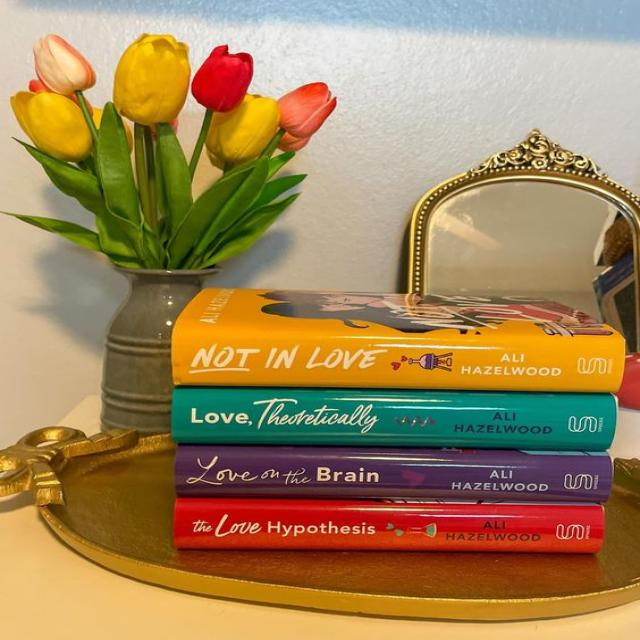book: (174, 388, 614, 448), (174, 332, 620, 390), (179, 501, 602, 554), (177, 448, 608, 498)
